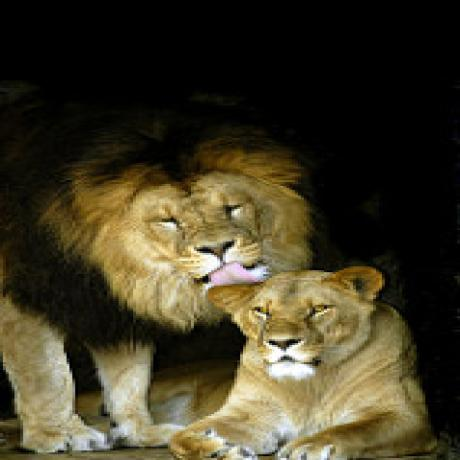Lion: (0, 109, 322, 453), (0, 264, 441, 459)
